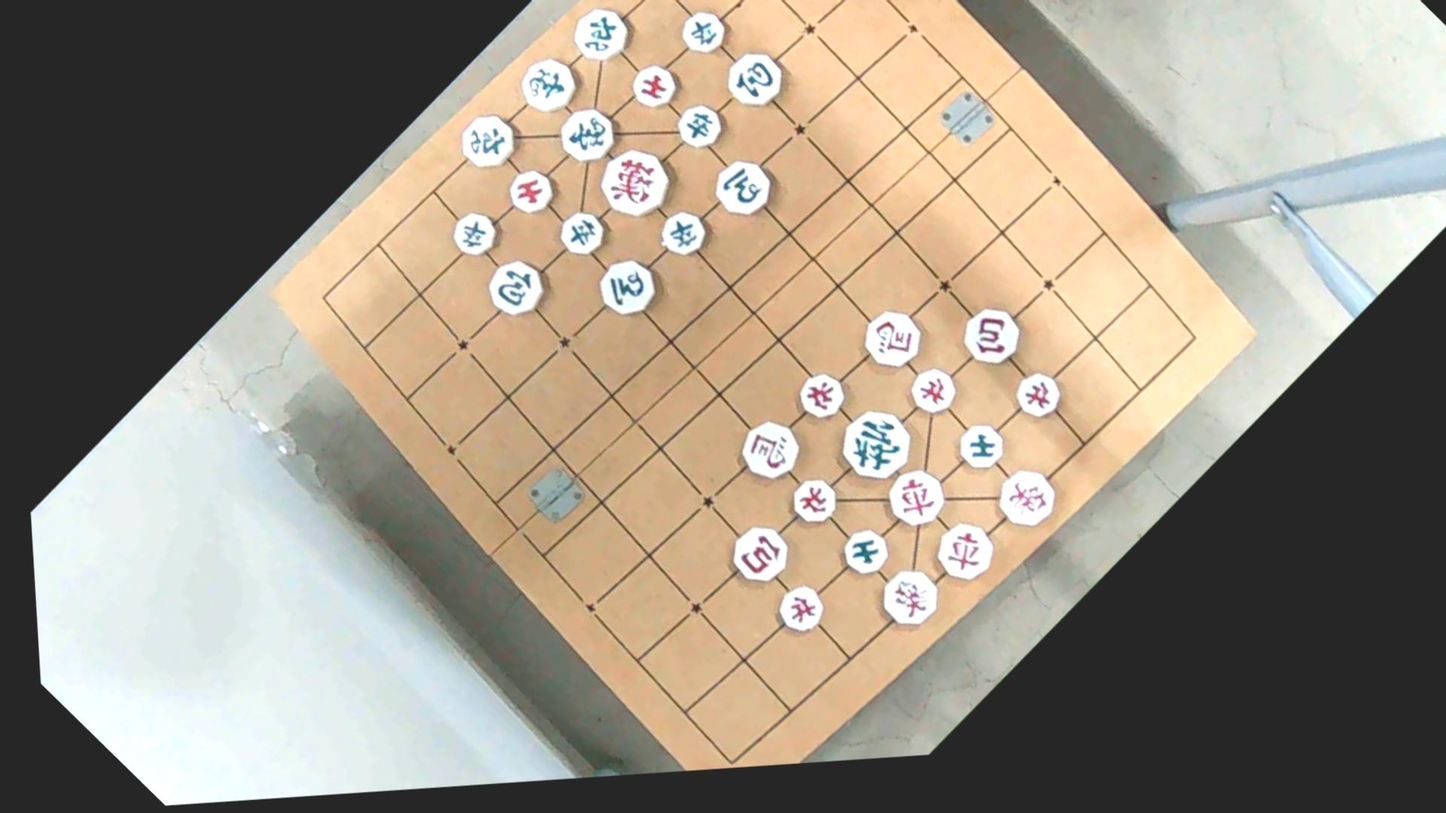cha_green: (447, 102, 523, 178), (560, 0, 638, 73)
cha_red: (925, 512, 1000, 589), (877, 461, 953, 536)
jol_green: (650, 199, 718, 268), (667, 94, 732, 159), (443, 202, 505, 264), (670, 3, 731, 65), (551, 201, 612, 263)
jol_red: (789, 361, 856, 429), (898, 357, 964, 424), (1003, 362, 1069, 428), (768, 576, 833, 641), (781, 469, 844, 531)
ma_green: (586, 248, 667, 329), (702, 148, 779, 227)
ma_red: (728, 409, 810, 490), (850, 297, 931, 378)
po_green: (476, 246, 557, 327), (712, 38, 792, 117)
po_red: (950, 296, 1030, 376), (718, 514, 798, 594)
sa_green: (949, 413, 1015, 479), (830, 519, 895, 585)
sa_red: (622, 55, 684, 117), (498, 162, 560, 224)
sang_green: (506, 46, 585, 124), (545, 98, 624, 176)
sang_red: (867, 557, 948, 638), (987, 460, 1063, 537)
wang_green: (824, 396, 926, 497)
wang_red: (585, 133, 686, 234)
